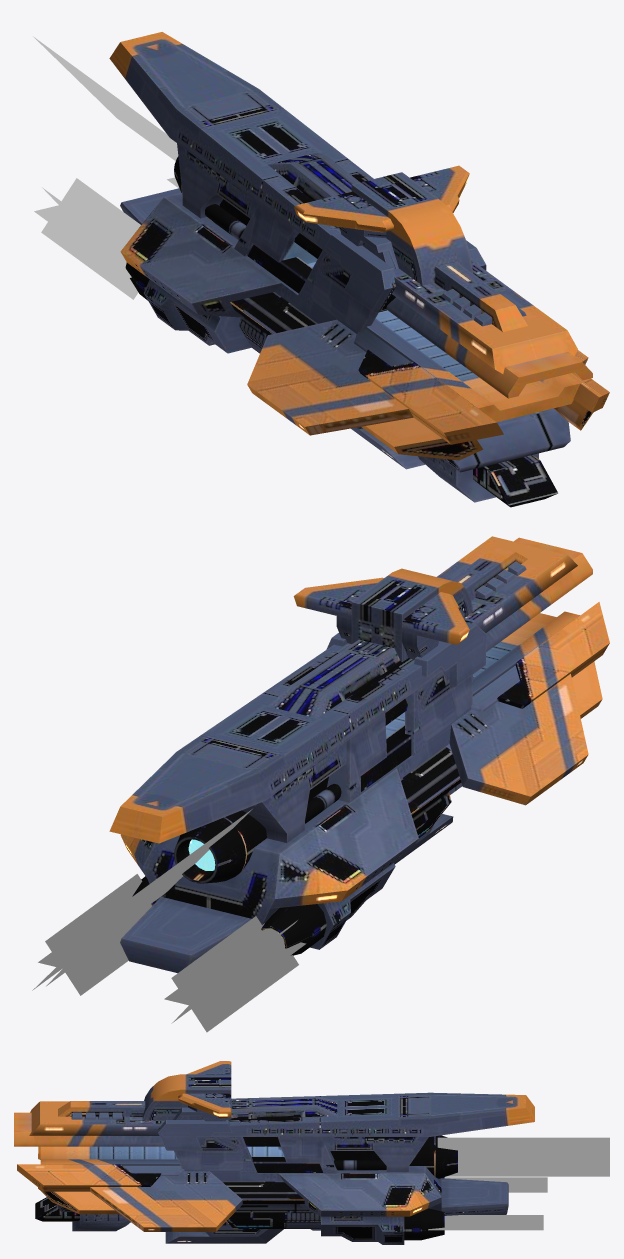
3 renders of one model, top to bottom at view 1: azimuth 30°, elevation 25°; view 2: azimuth 150°, elevation 25°; view 3: azimuth 270°, elevation 25°, orthographic. The views are drawn at different scales.
Parts seen in each view (by area): view 1: warship-type-f; view 2: warship-type-f; view 3: warship-type-f.
Boxes of the visible parts, bbox=[...] form: warship-type-f: bbox=[33, 32, 609, 507]; warship-type-f: bbox=[32, 536, 609, 1032]; warship-type-f: bbox=[14, 1061, 609, 1244].
Bounding box in the file's own units: 22.41 × 18.63 × 65.18.
Materials: 2 (1 with a texture image).
